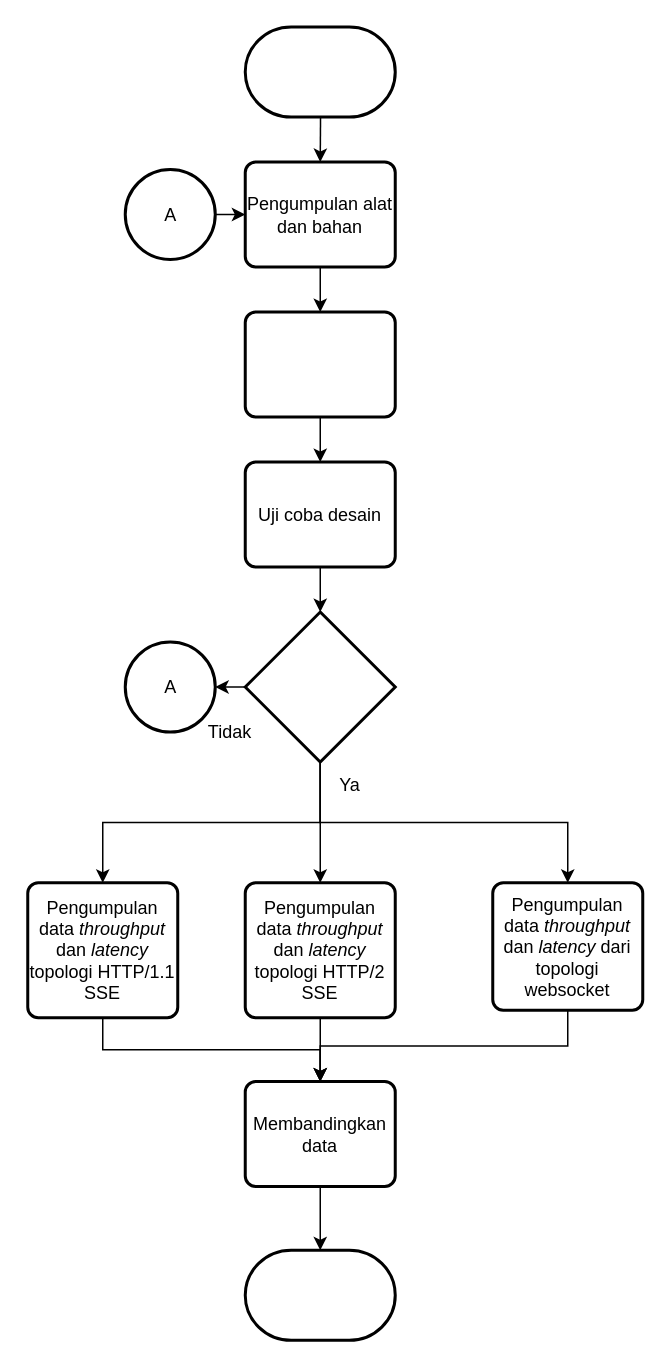
Some shapes in this 669 by 1368 pixel diagram are drawn without their labels. Each missing label, with the centre of its shape:
"Apakah desain berhasil ?" goes at pixel 319 686.
"Mulai" goes at pixel 319 71.
"Penyusunan desain smarthome untuk ketiga metode" goes at pixel 319 364.
"Selesai" goes at pixel 319 1294.
